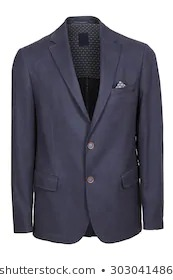F_M_suit jacket: (3, 14, 168, 247)
